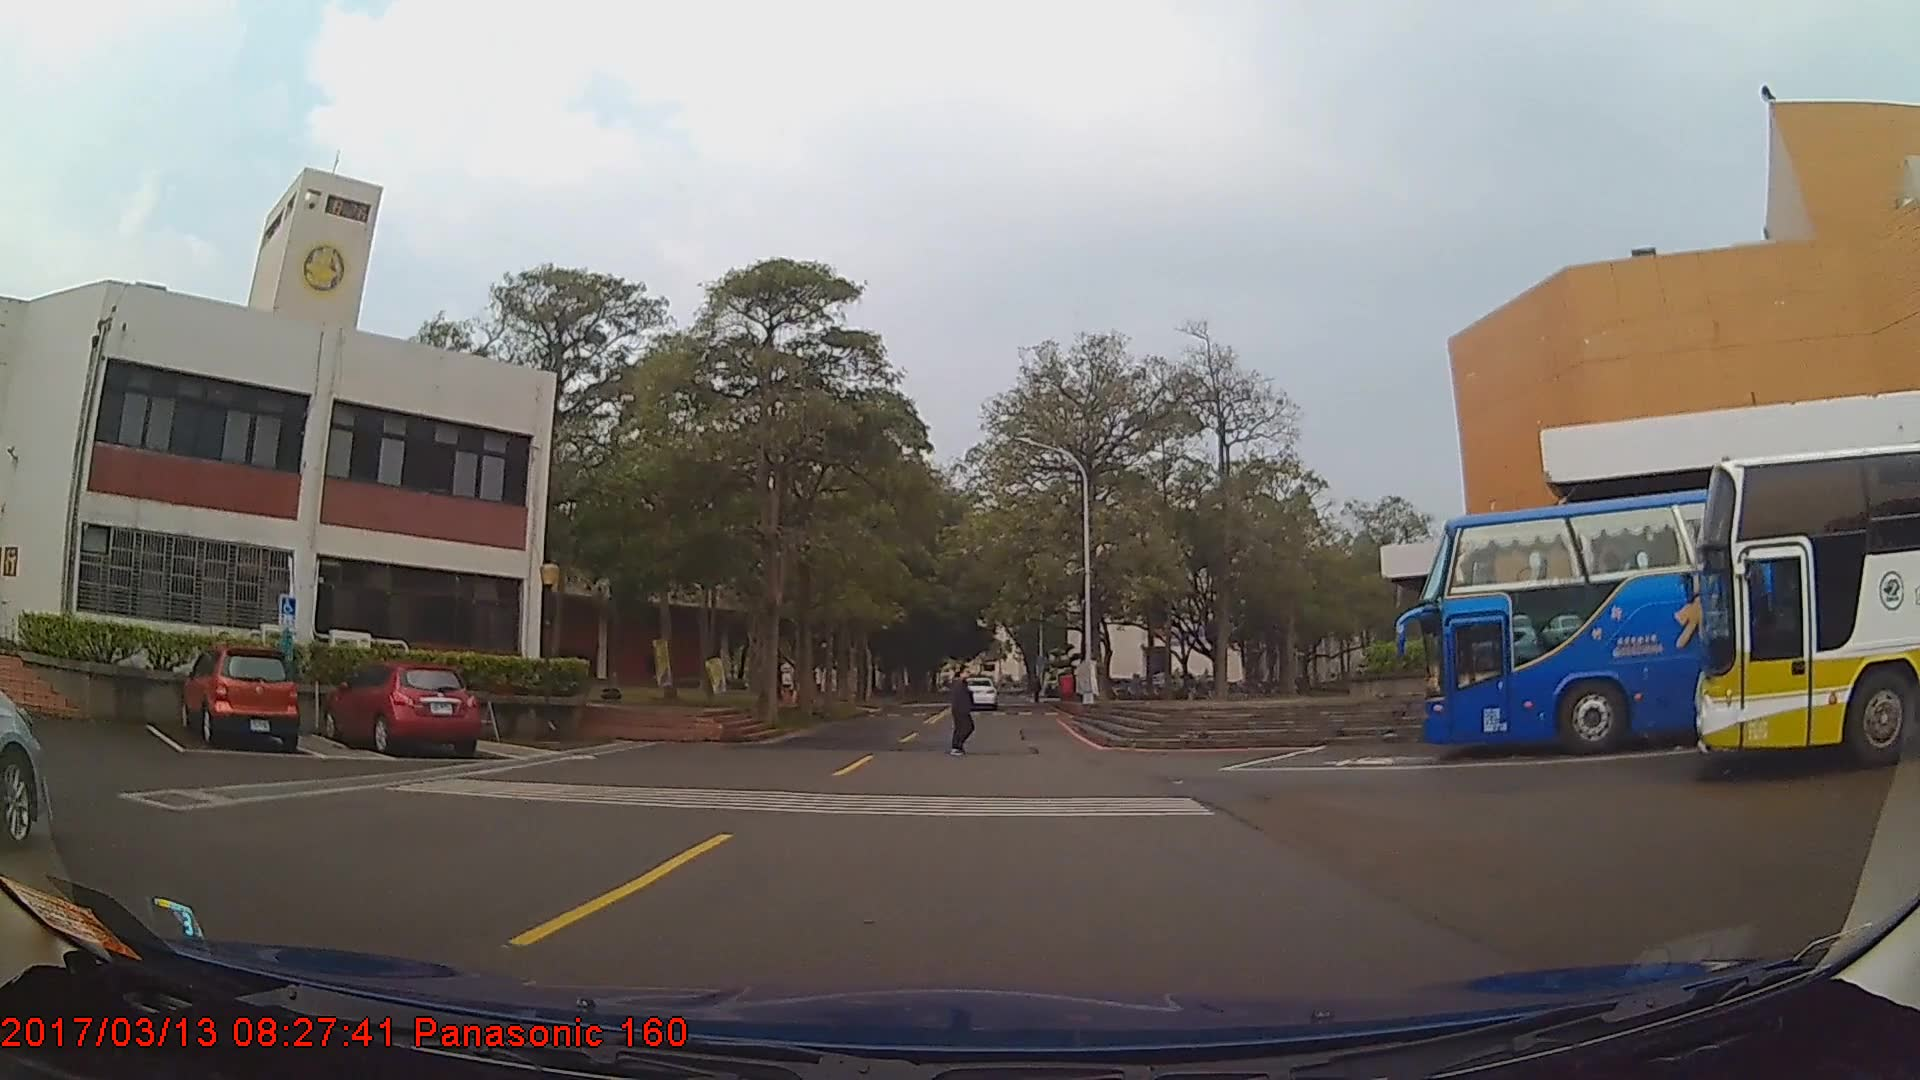pedestrian: (941, 664, 984, 757)
vehicle: (1425, 464, 1920, 757), (1697, 435, 1920, 770), (321, 663, 479, 756), (178, 645, 300, 754), (957, 676, 999, 710)
